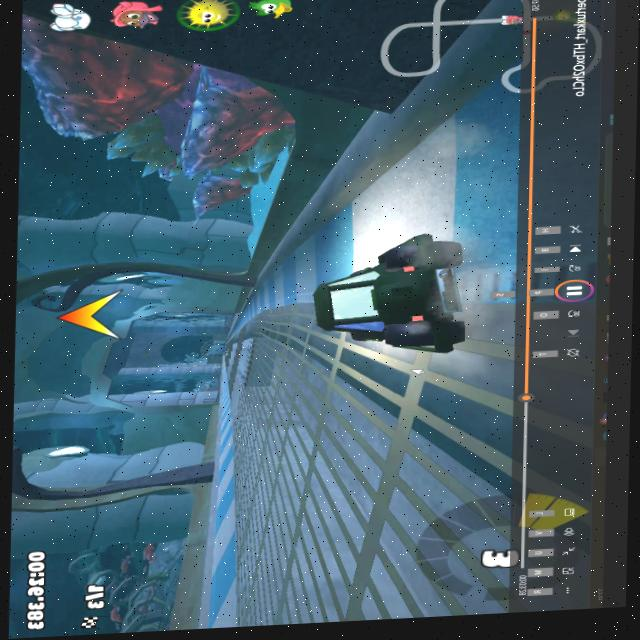player_kart: (290, 230, 480, 360)
track: (306, 358, 511, 623), (252, 308, 311, 626), (236, 311, 260, 492), (232, 490, 255, 625), (480, 303, 515, 359), (222, 345, 247, 368), (227, 369, 236, 397), (237, 332, 247, 345)
